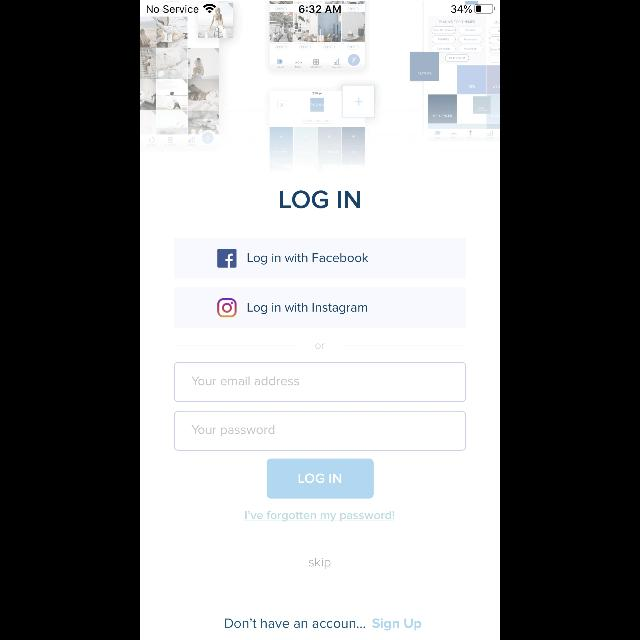image: (140, 0, 500, 172)
input: (174, 411, 466, 451), (174, 362, 466, 402)
text: (244, 511, 394, 521), (225, 618, 365, 628), (280, 192, 360, 208), (192, 376, 300, 386), (191, 425, 275, 437), (372, 618, 422, 630), (310, 558, 330, 568), (316, 344, 324, 348)
textbutton: (174, 288, 466, 328), (174, 238, 466, 278), (267, 459, 373, 499)
uppertaskbar: (140, 0, 500, 14)
